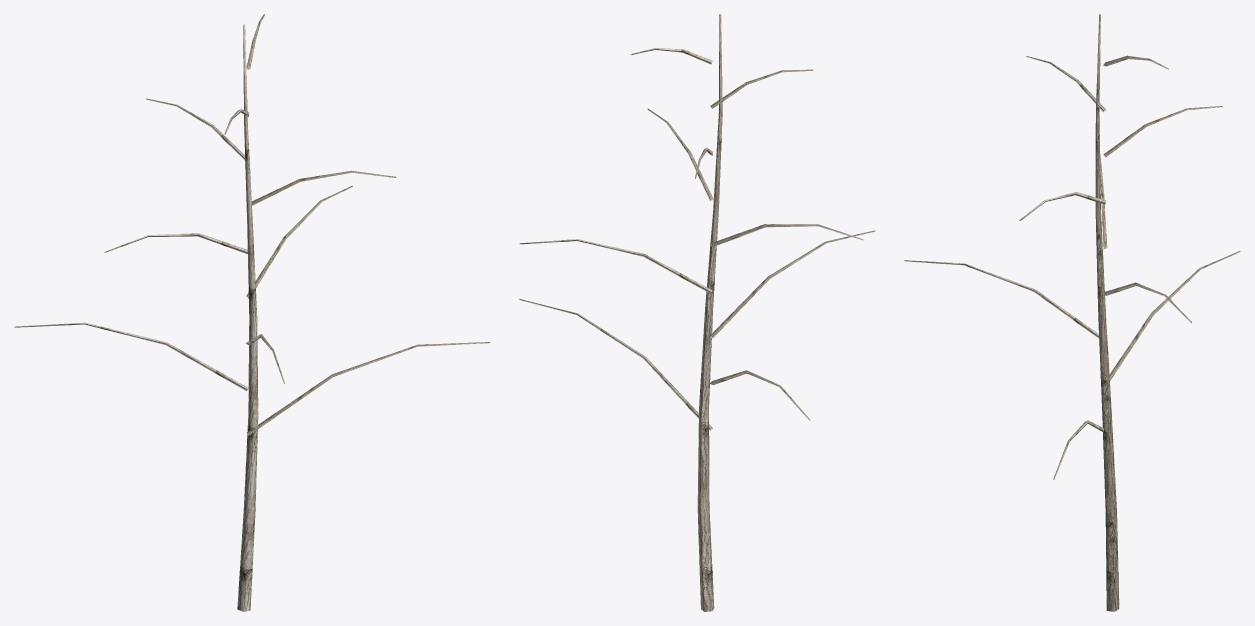
Rendered from veg_birch_sapling_bare.glb.
The picture shows the model from 3 angles, left to right: view 1: azimuth 30°, elevation 25°; view 2: azimuth 150°, elevation 25°; view 3: azimuth 270°, elevation 25°; orthographic projection.
Parts seen in each view (by area): view 1: veg_birch_sapling_bare; view 2: veg_birch_sapling_bare; view 3: veg_birch_sapling_bare.
Part boxes in pixels (left/top/right/bottom): veg_birch_sapling_bare: left=14, top=14, right=490, bottom=611; veg_birch_sapling_bare: left=519, top=14, right=875, bottom=611; veg_birch_sapling_bare: left=904, top=14, right=1240, bottom=611.
Bounding box in the file's own units: 1.77 × 2.6 × 1.34.
Materials: 1 (1 with a texture image).
